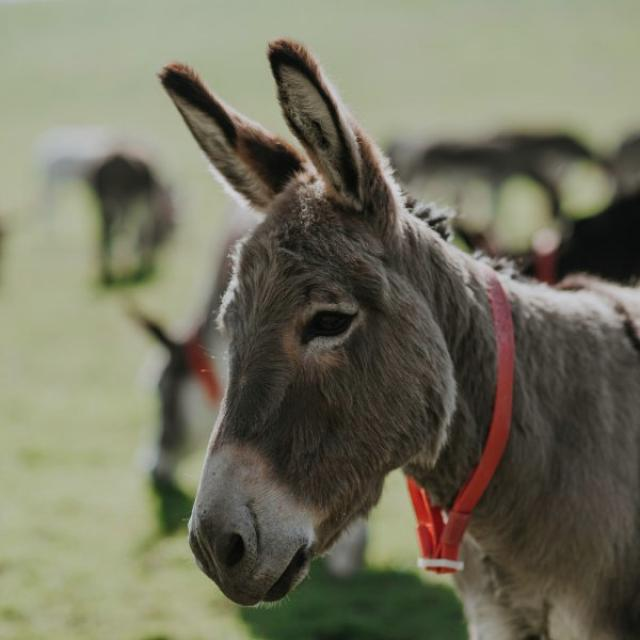donkey: (159, 39, 640, 639)
